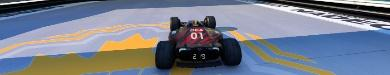Car: (154, 15, 242, 68)
